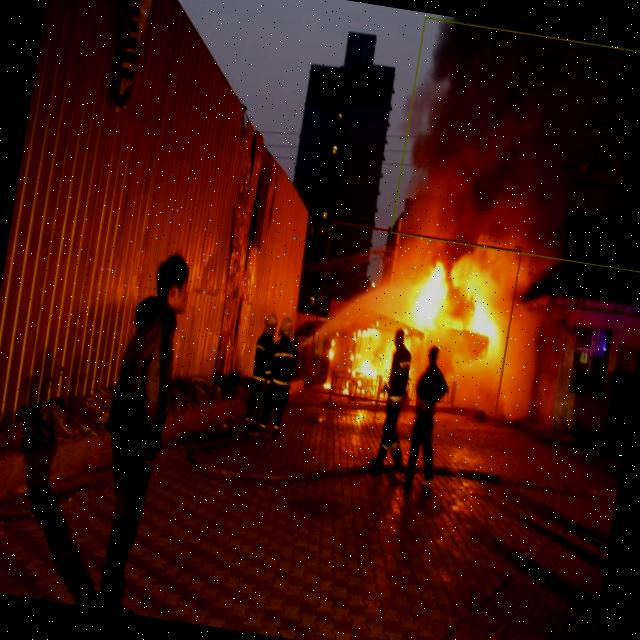fire: (305, 221, 522, 420)
smoke: (391, 17, 640, 274)
